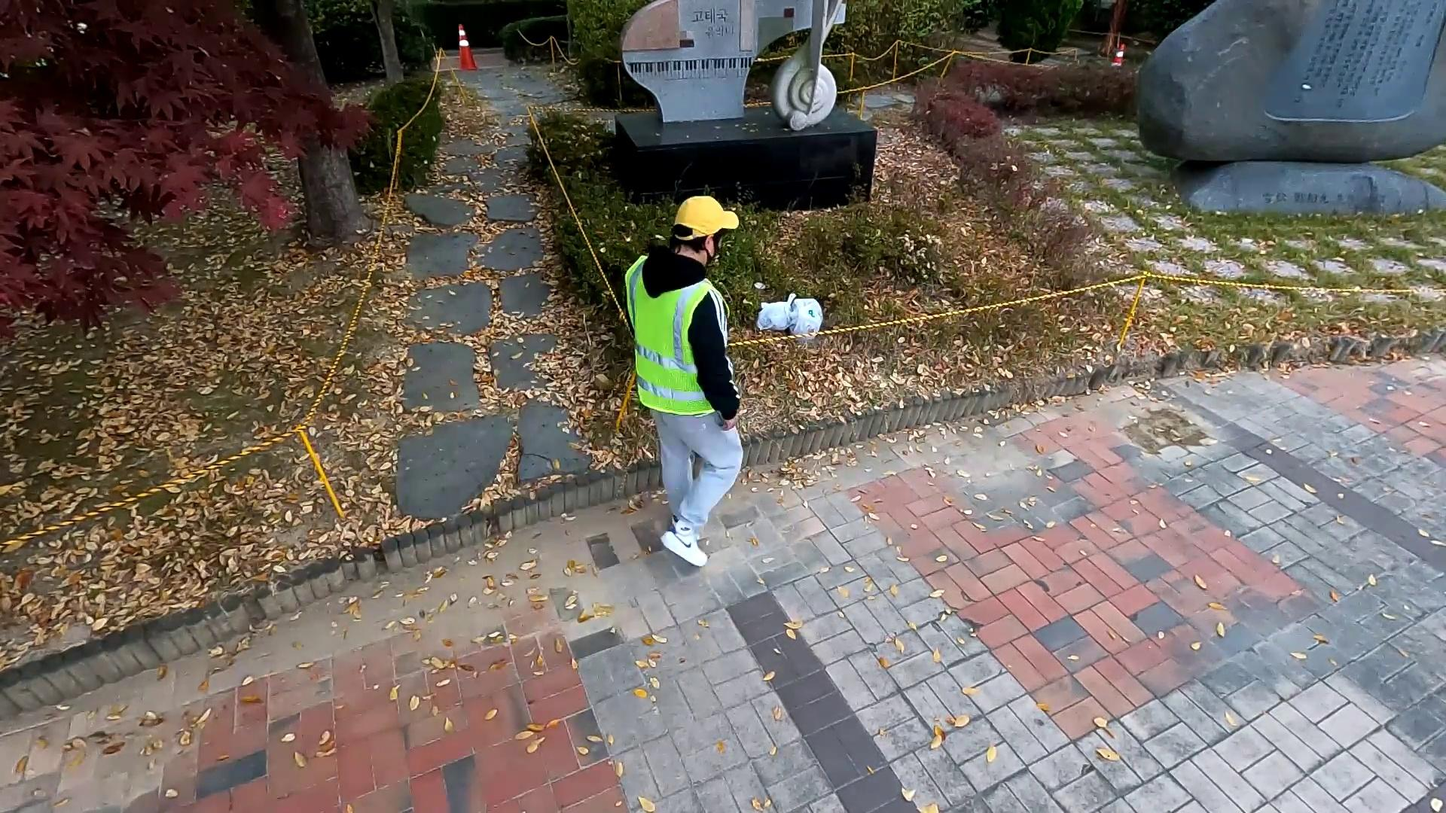person: (607, 181, 754, 565)
trash: (786, 292, 825, 347), (756, 293, 795, 335)
